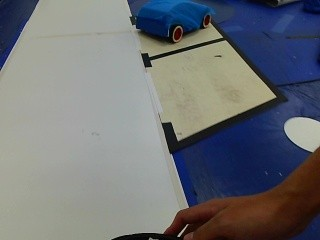car: (134, 0, 214, 45)
